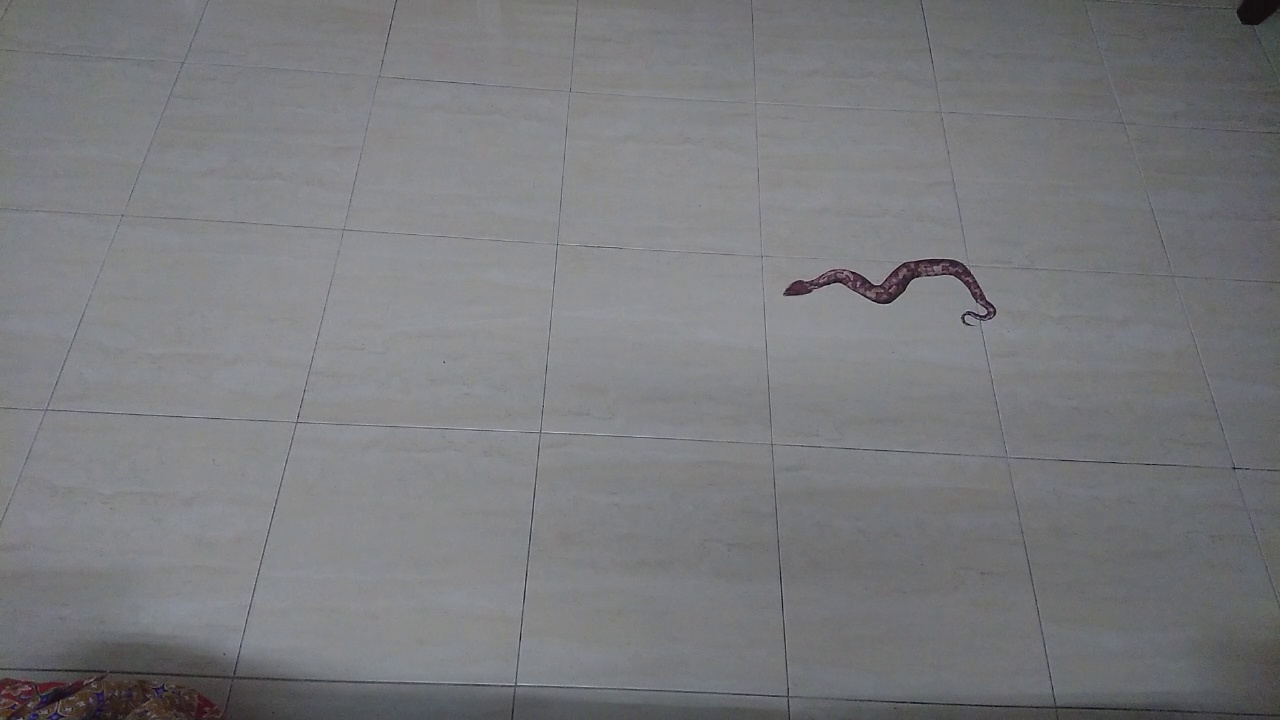snake: (768, 245, 1013, 342)
